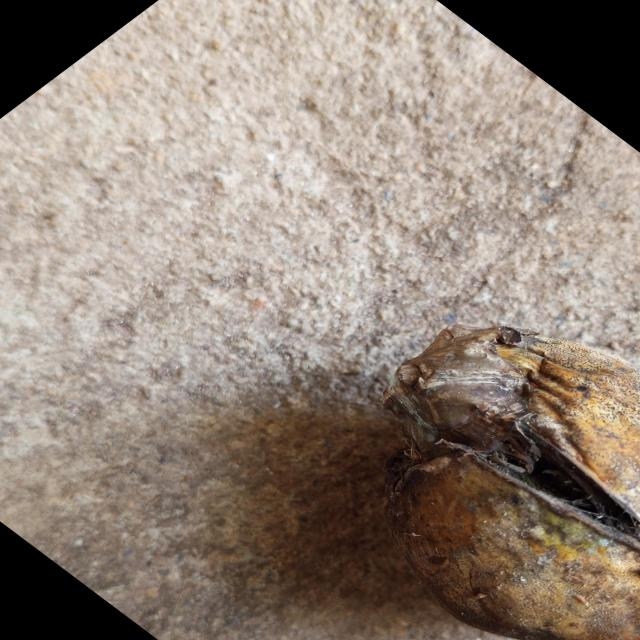damaged: (375, 327, 640, 640)
